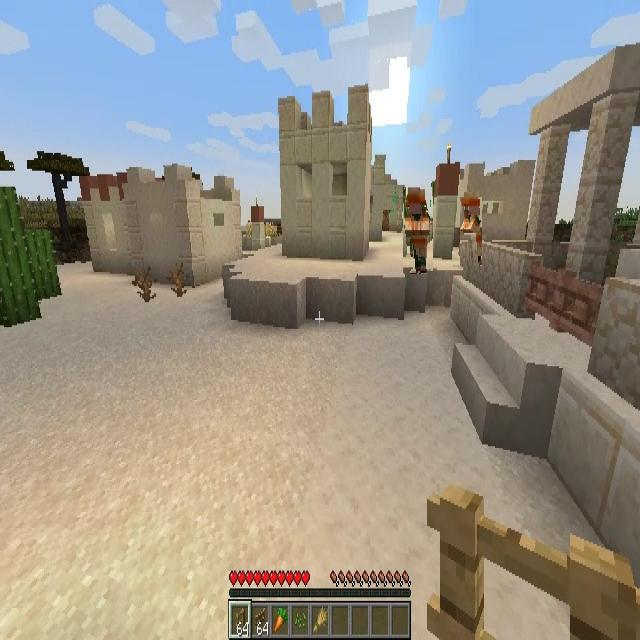people: (404, 188, 434, 274), (460, 197, 482, 266)
